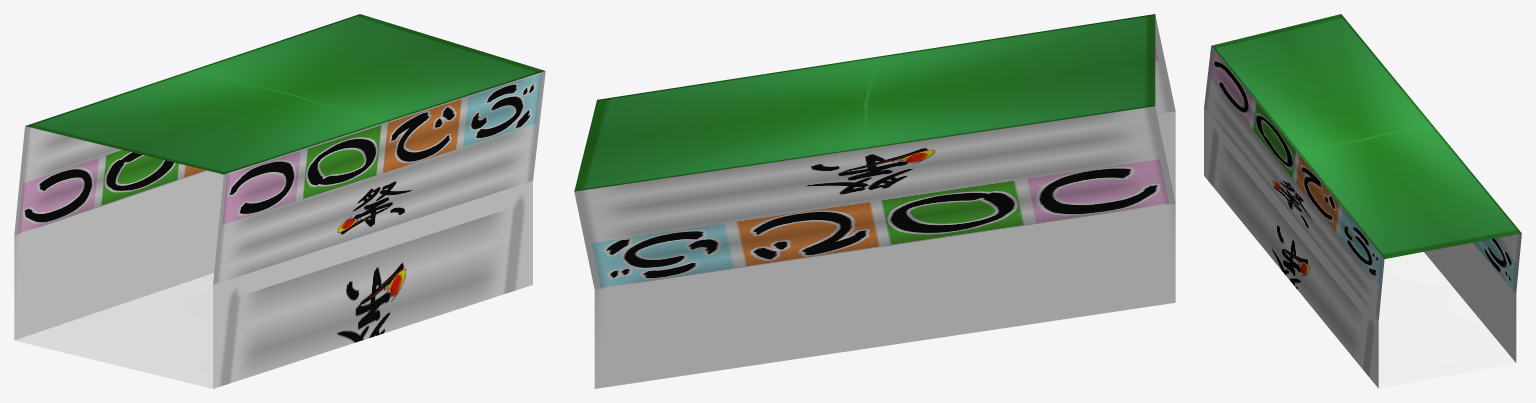
The model's file is CourseAki_Wall_L_6_11.fbx.
The picture shows the model from 3 angles, left to right: view 1: azimuth 30°, elevation 25°; view 2: azimuth 150°, elevation 25°; view 3: azimuth 270°, elevation 25°; orthographic projection. The views are drawn at different scales.
Parts seen in each view (by area): view 1: polySurface374; view 2: polySurface374; view 3: polySurface374.
Boxes of the visible parts, x1,y1,x2,y2 form: polySurface374: [14, 14, 545, 388]; polySurface374: [574, 14, 1175, 388]; polySurface374: [1204, 14, 1521, 388].
Bounding box in the file's own units: 5.73 × 2.98 × 4.22.
1 material, 1 textured.
